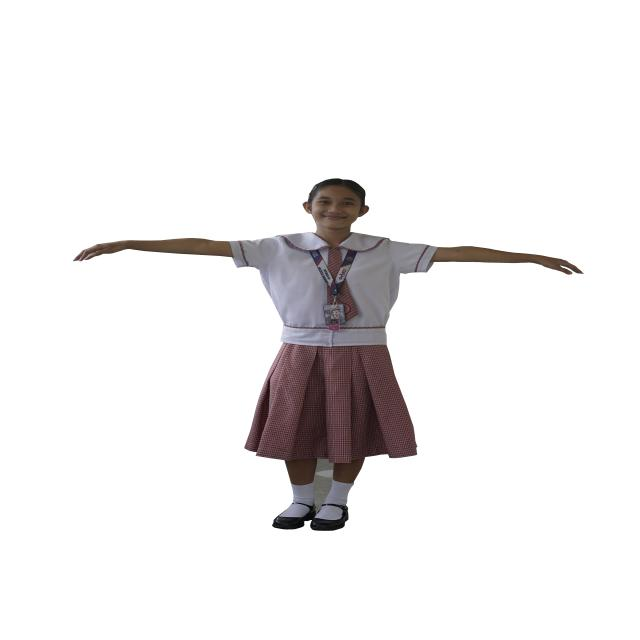id lace: (309, 250, 357, 297), (326, 320, 341, 330)
pologirl: (230, 233, 436, 346), (338, 283, 358, 320), (328, 247, 343, 281), (327, 286, 332, 302)
shoes: (272, 503, 348, 531)
skirt: (245, 343, 416, 463)
